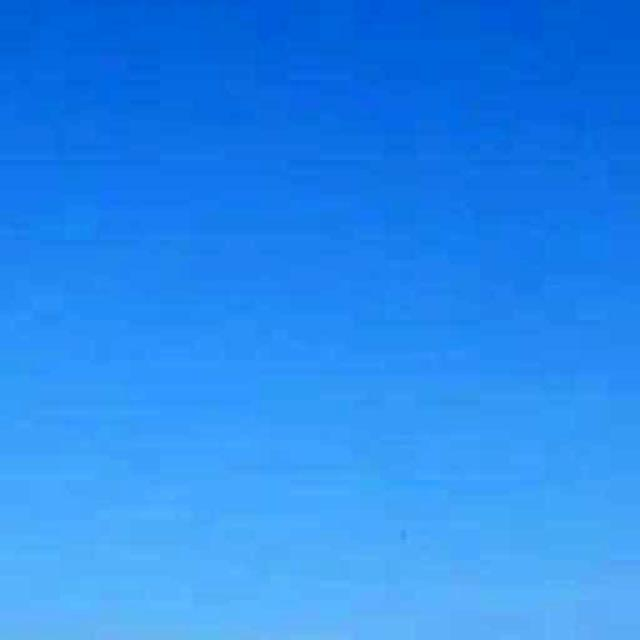drone: (371, 494, 441, 574)
